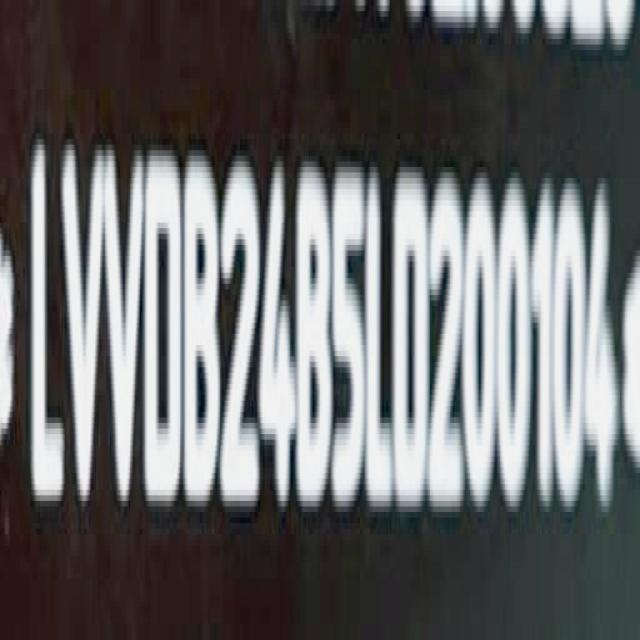0: (547, 179, 585, 517), (463, 171, 500, 516), (497, 172, 534, 517)
1: (528, 176, 554, 520)
2: (220, 154, 260, 522), (429, 160, 467, 520)
4: (258, 153, 298, 520), (584, 184, 622, 517)
5: (332, 162, 368, 520)
B: (185, 150, 222, 518), (298, 158, 333, 519)
D: (146, 148, 183, 516), (396, 162, 432, 518)
L: (28, 137, 68, 520), (365, 154, 398, 520)
V: (102, 146, 148, 520), (64, 142, 105, 518)
